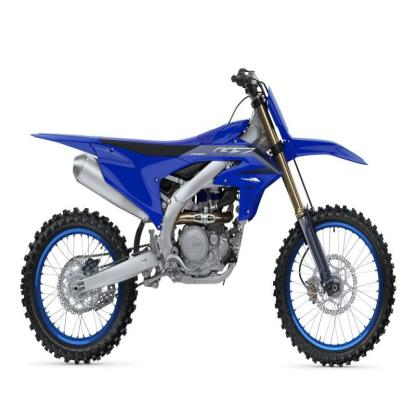bike: (18, 74, 392, 371)
